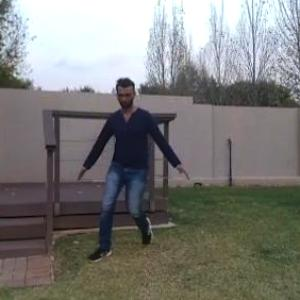land: (76, 74, 187, 267)
